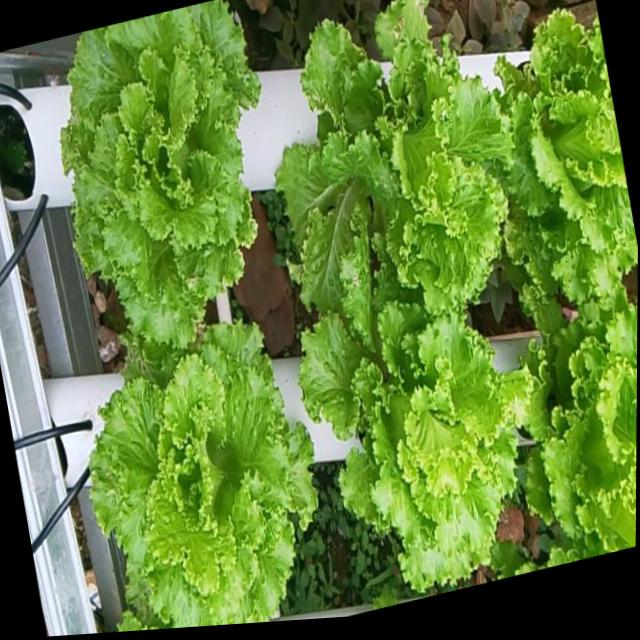Mature: (281, 0, 521, 315), (62, 0, 265, 369), (308, 279, 536, 595), (96, 329, 327, 631), (506, 0, 638, 296), (542, 282, 638, 556)
